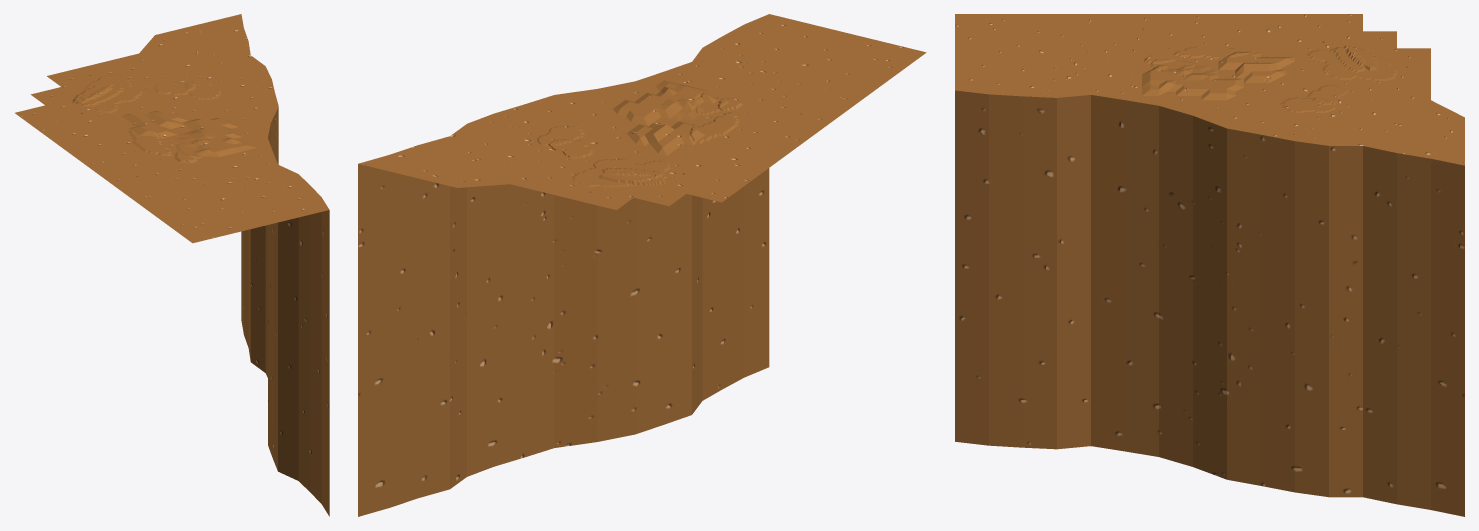
File: World_Frame_StartingAreaBumpy_240321.fbx
3 renders of one model, left to right at view 1: azimuth 30°, elevation 25°; view 2: azimuth 150°, elevation 25°; view 3: azimuth 270°, elevation 25°, orthographic. The views are drawn at different scales.
Visible parts, largest first — view 1: Ground-Area1-bumpy; view 2: Ground-Area1-bumpy; view 3: Ground-Area1-bumpy.
Part boxes in pixels (box(x1,y1,x2,y2)): Ground-Area1-bumpy: box(15, 14, 329, 516); Ground-Area1-bumpy: box(358, 14, 926, 516); Ground-Area1-bumpy: box(955, 14, 1464, 516).
Size of the model in its own units: 14080 by 15465 by 20000.
